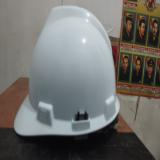Helmet: (14, 5, 120, 136)
